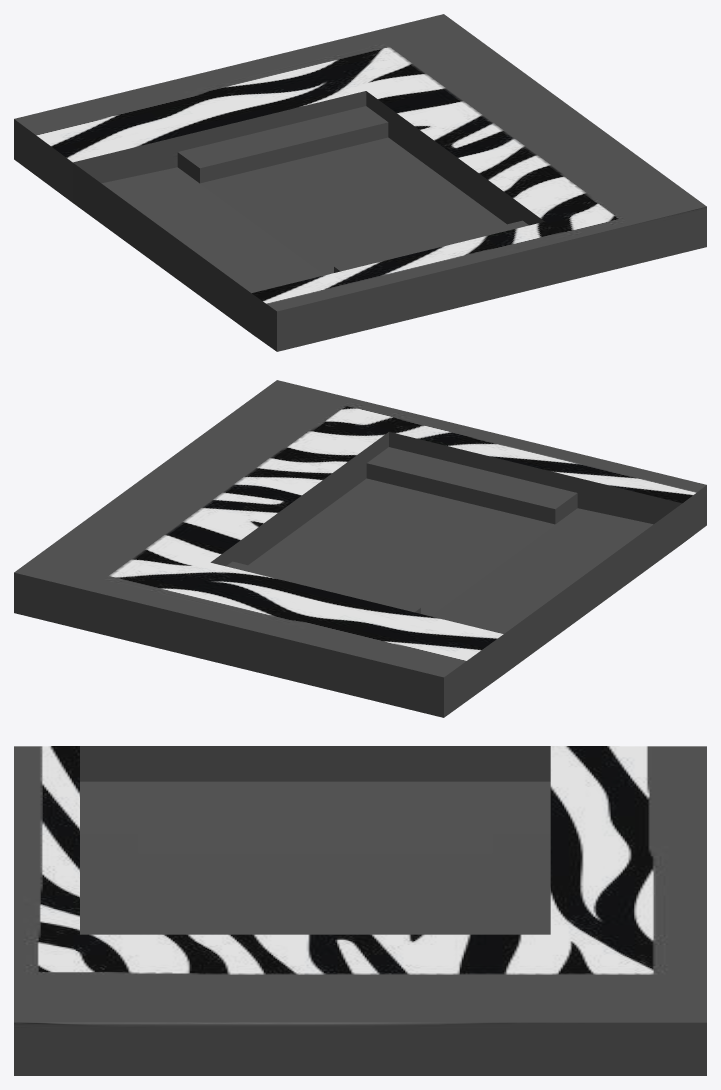
File: delosReyes_floor.gltf
3 renders of one model, top to bottom at view 1: azimuth 30°, elevation 25°; view 2: azimuth 150°, elevation 25°; view 3: azimuth 270°, elevation 25°, orthographic. The views are drawn at different scales.
Visible parts, largest first — view 1: floor; view 2: floor; view 3: floor.
Boxes of the visible parts, x1=… form: floor: x1=14, y1=14, x2=706, y2=351; floor: x1=14, y1=380, x2=706, y2=717; floor: x1=14, y1=746, x2=706, y2=1075.
Size of the model in its own units: 50.07 by 4.5 by 53.
Materials: 1 (1 with a texture image).
